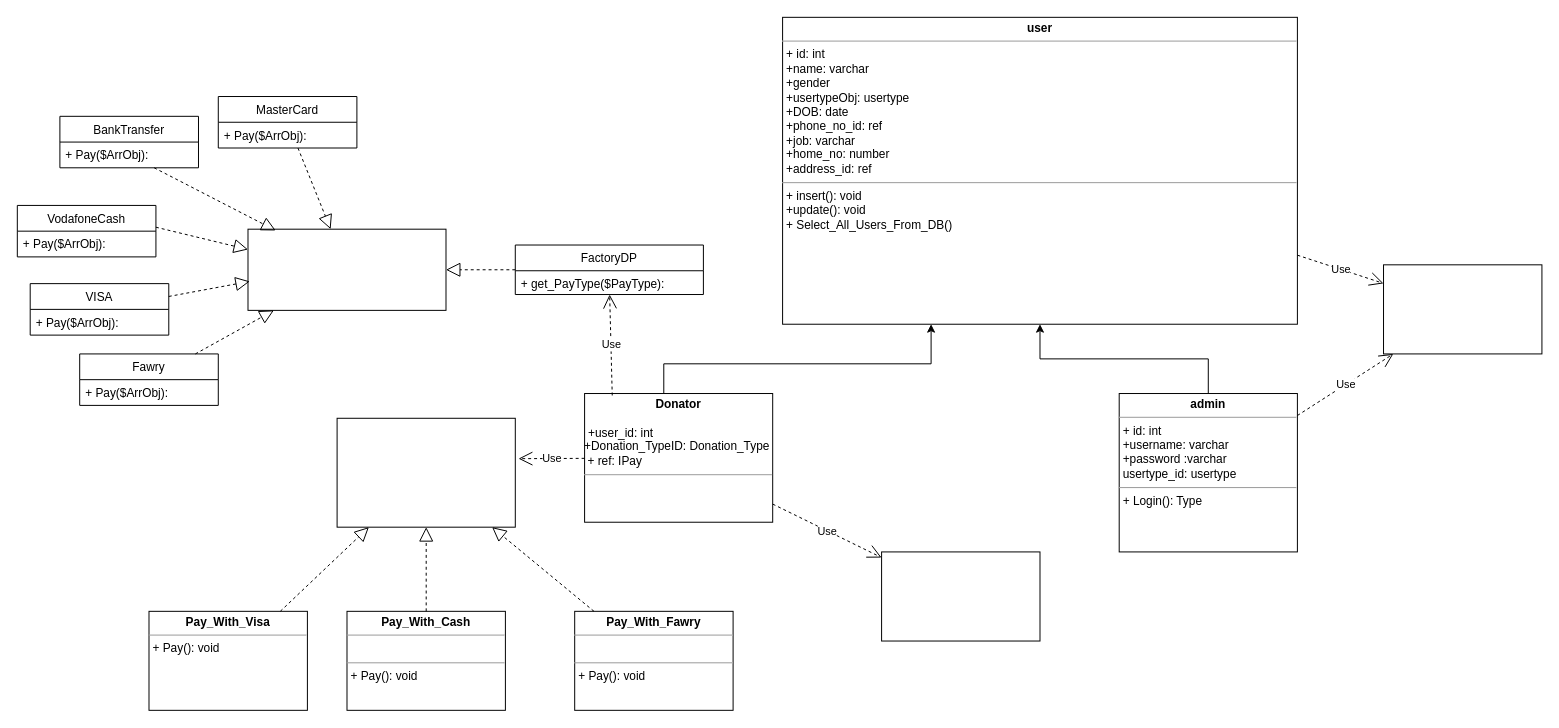
Image size: 1559x728. Some labels were removed from this diagram. The shapes that lost their labels are listed below. From the top down, each one's centre as x and y in pixels, then its label:
At (346,269): "<<Interface>> PayType + Pay($ArrObj):".
At (1462,309): "usertype + id: int + name: varchar + method(): Type".
At (425,472): "<<Interface>> IPay + Pay(): void".
At (960,596): "Donation_Type + id: int + name: String".
